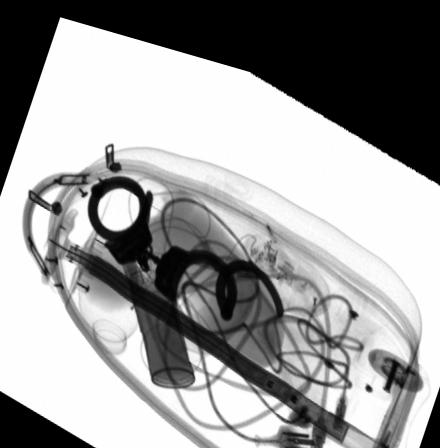HandCuffs: (86, 164, 284, 306)
